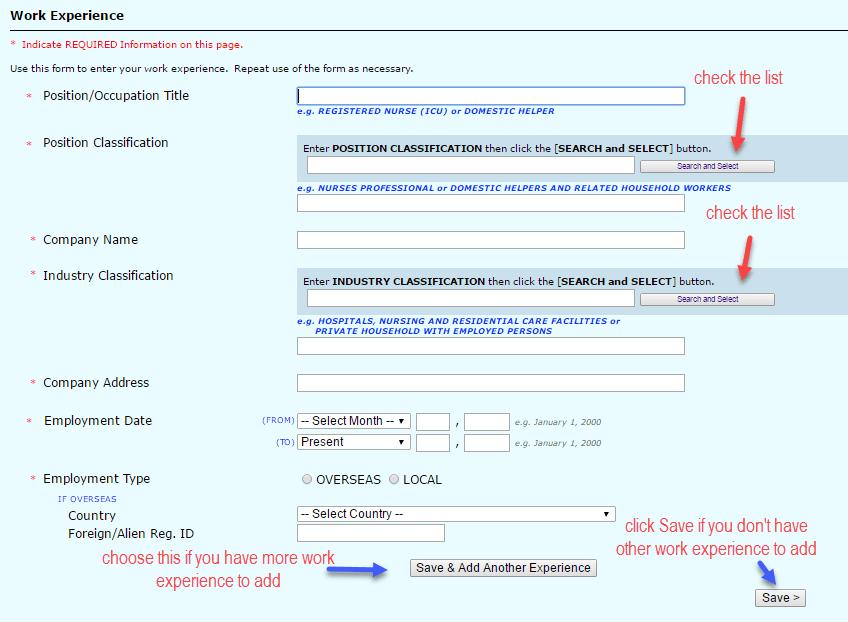button: (411, 555, 598, 580), (755, 586, 810, 610)
dropdown: (296, 411, 414, 431), (296, 433, 414, 452)
